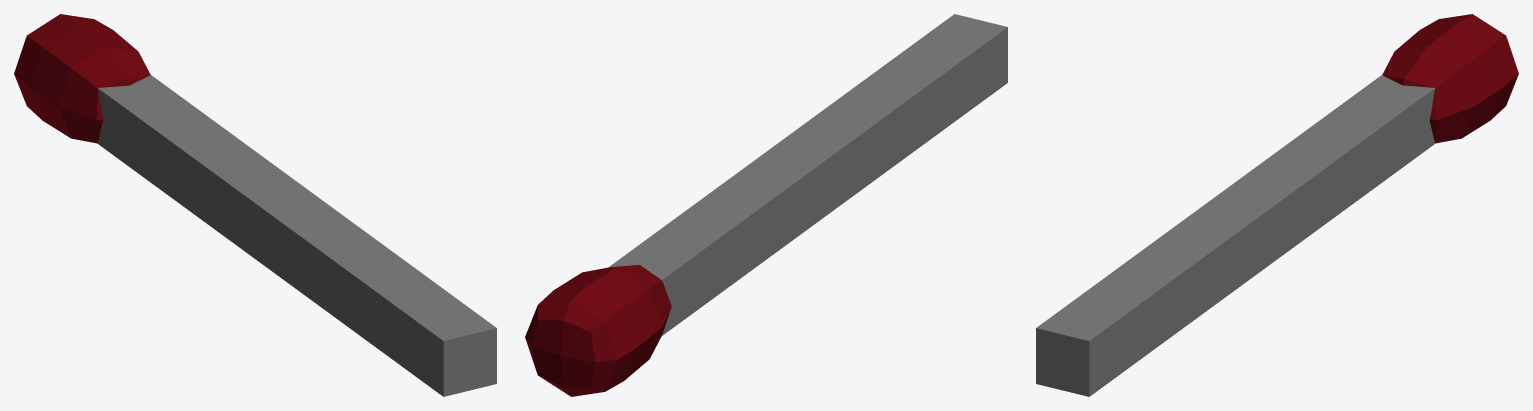
The model's file is match_stick_red.glb.
3 views of the same model, side by side, from view 1: azimuth 30°, elevation 25°; view 2: azimuth 150°, elevation 25°; view 3: azimuth 330°, elevation 25° (orthographic).
Parts seen in each view (by area): view 1: match_stick, match_stick.002; view 2: match_stick, match_stick.002; view 3: match_stick, match_stick.002.
Part boxes in pixels (bbox=[...]): match_stick: bbox=[97, 74, 496, 396]; match_stick.002: bbox=[14, 14, 150, 143]; match_stick: bbox=[608, 14, 1007, 335]; match_stick.002: bbox=[525, 265, 671, 396]; match_stick: bbox=[1036, 74, 1435, 396]; match_stick.002: bbox=[1382, 14, 1518, 143].
Bounding box in the file's own units: 0.00725 × 0.00725 × 0.0546.
